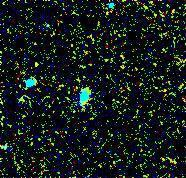star: (24, 71, 54, 101)
